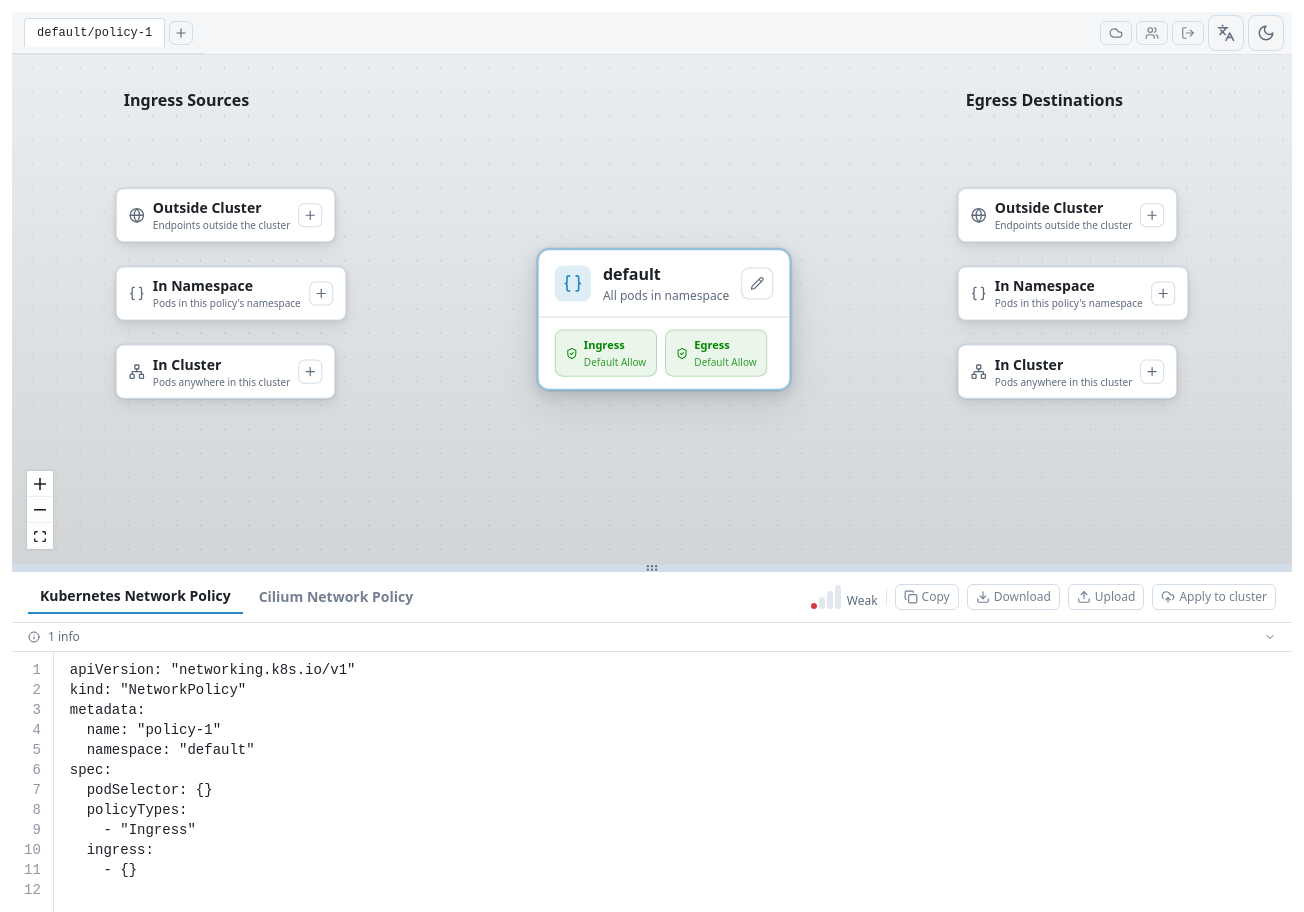
<App/> › switches the whole interface to Chinese from the toolbar
This screenshot has width=1304, height=912.
Expected: the heading "Ingress Sources" is shown, [124,88,249,112]
Click the button titled "中文": (1226, 33) [1208,15,1244,51]
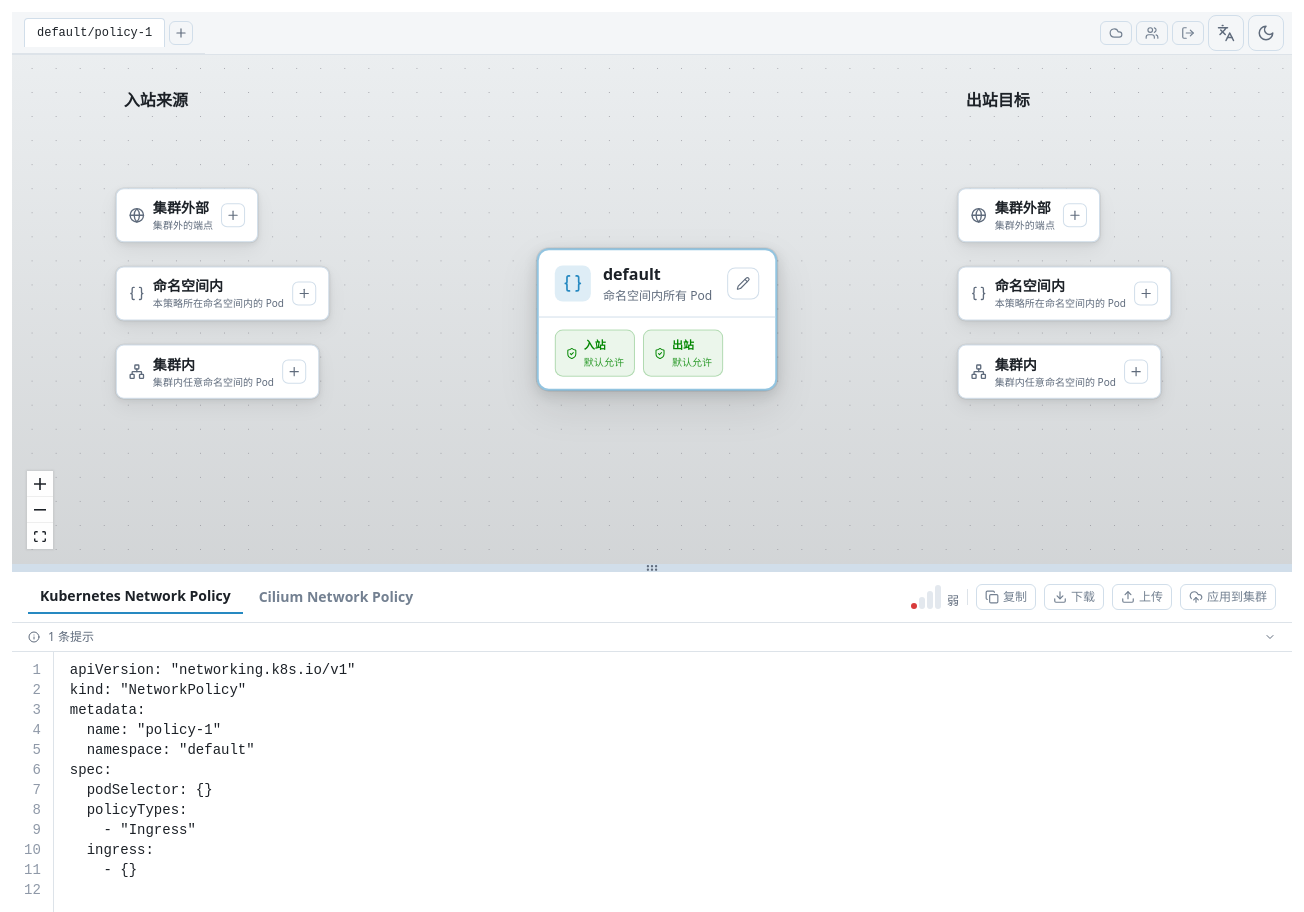
Now the heading "入站来源" is shown, box [124,88,188,112]
Now the heading "出站目标" is shown, box [966,88,1030,112]
Now the heading "Ingress Sources" is gone
